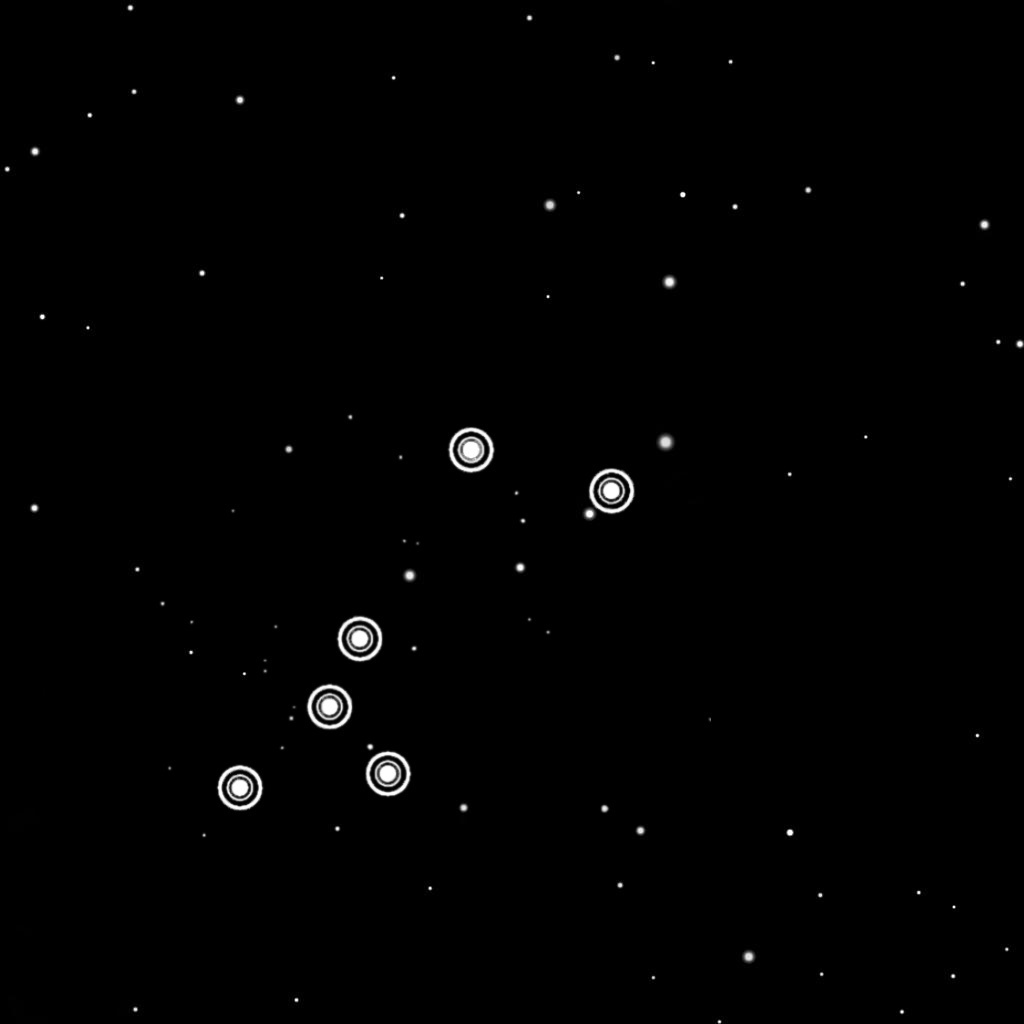canis_major: (210, 417, 652, 820)
